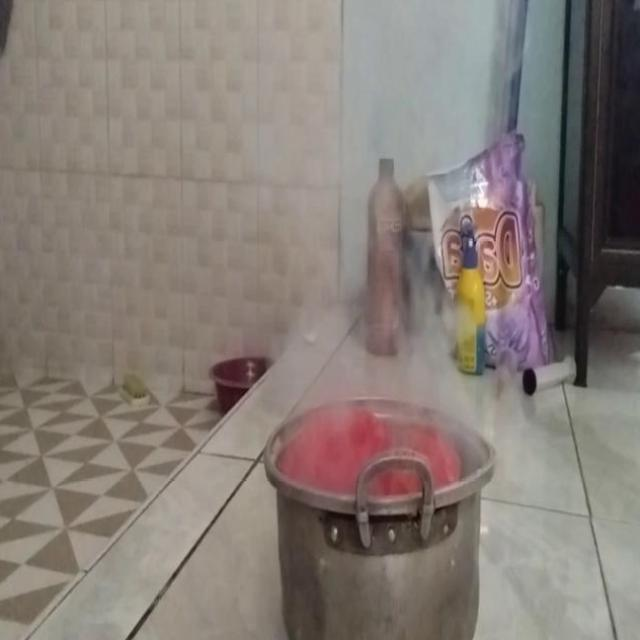fire: (303, 164, 462, 426)
